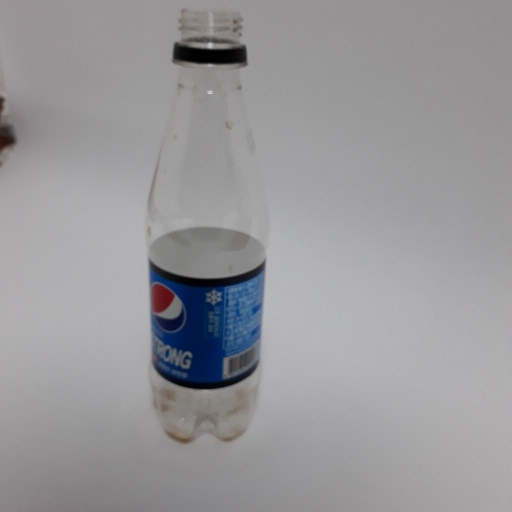Plastic_0: (139, 5, 270, 449)
